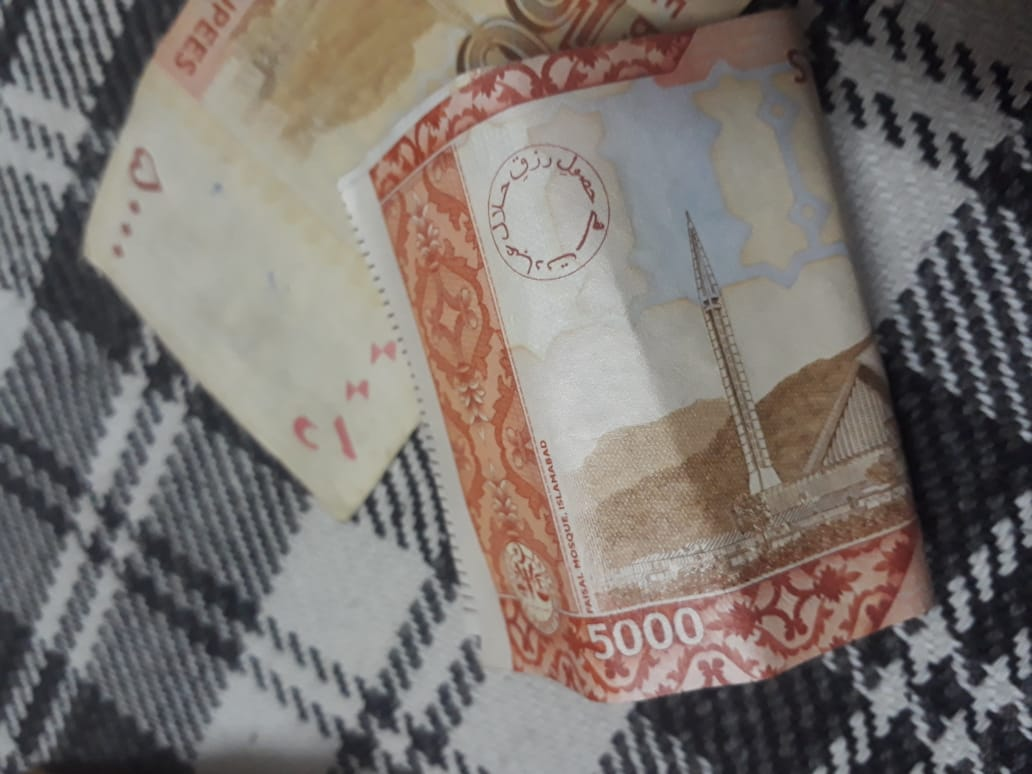5000 rupee: (325, 63, 964, 702)
